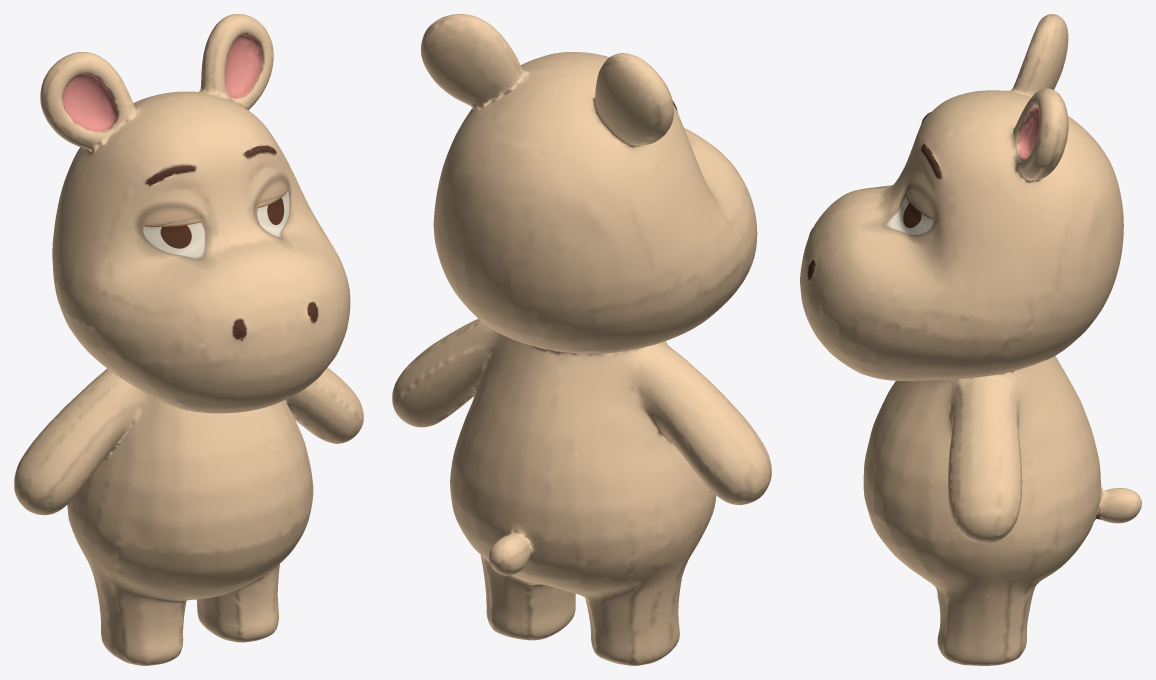
The model's file is hippo_v3_open.glb.
The picture shows the model from 3 angles, left to right: view 1: azimuth 30°, elevation 25°; view 2: azimuth 150°, elevation 25°; view 3: azimuth 270°, elevation 25°; orthographic projection. The views are drawn at different scales.
Visible parts, largest first — view 1: Hippo, EyeDecal; view 2: Hippo; view 3: Hippo, EyeDecal.
Boxes of the visible parts, bbox=[...] form: Hippo: bbox=[14, 14, 363, 665]; EyeDecal: bbox=[136, 174, 290, 261]; Hippo: bbox=[392, 14, 771, 665]; Hippo: bbox=[800, 14, 1141, 665]; EyeDecal: bbox=[877, 183, 938, 235].
Bounding box in the file's own units: 0.6093 × 0.9993 × 0.5354.
2 materials, 2 textured.
